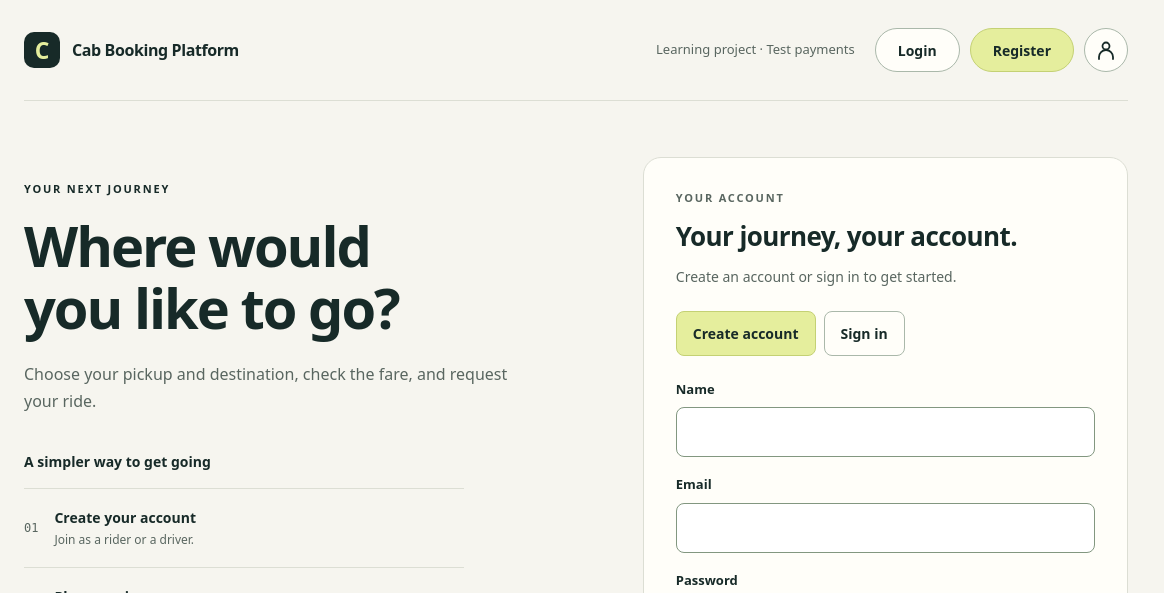
Scenario: successful rider sign-in opens the correct workspace and focuses its visible heading
The image size is (1164, 593).
Click the button "Login" at (917, 50), box top-left (875, 28), bottom-right (960, 72)
(page scrolled)
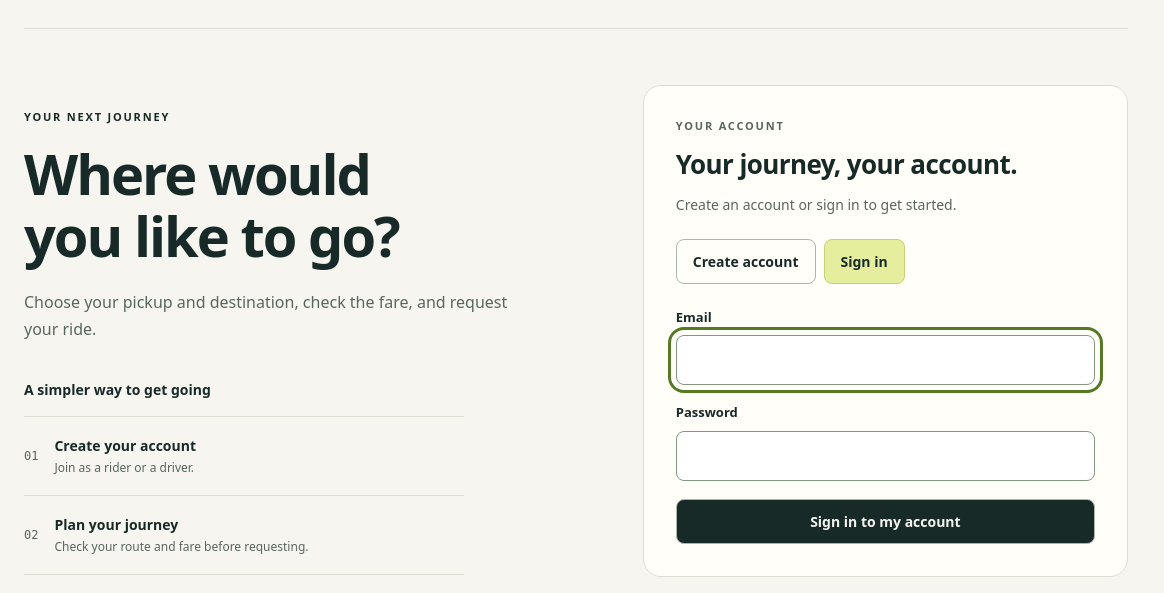
Type "rider@example.com" into the field labelled "Email" at (885, 360), box top-left (676, 335), bottom-right (1095, 385)
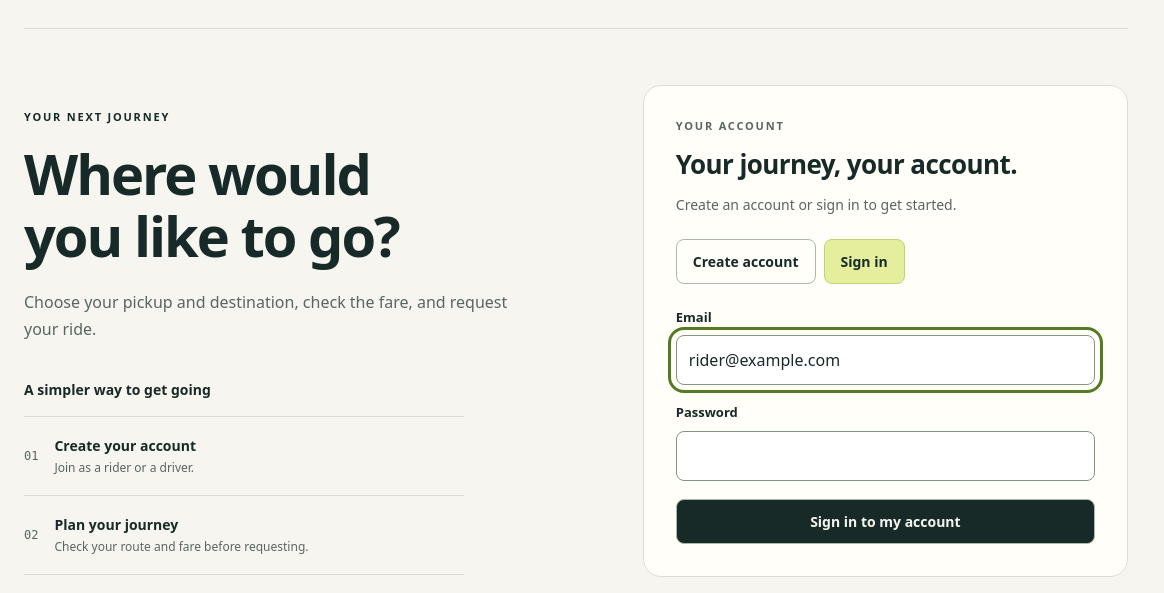
Type "fixture-password" into the password field labelled "Password" at (885, 456), box top-left (676, 430), bottom-right (1095, 480)
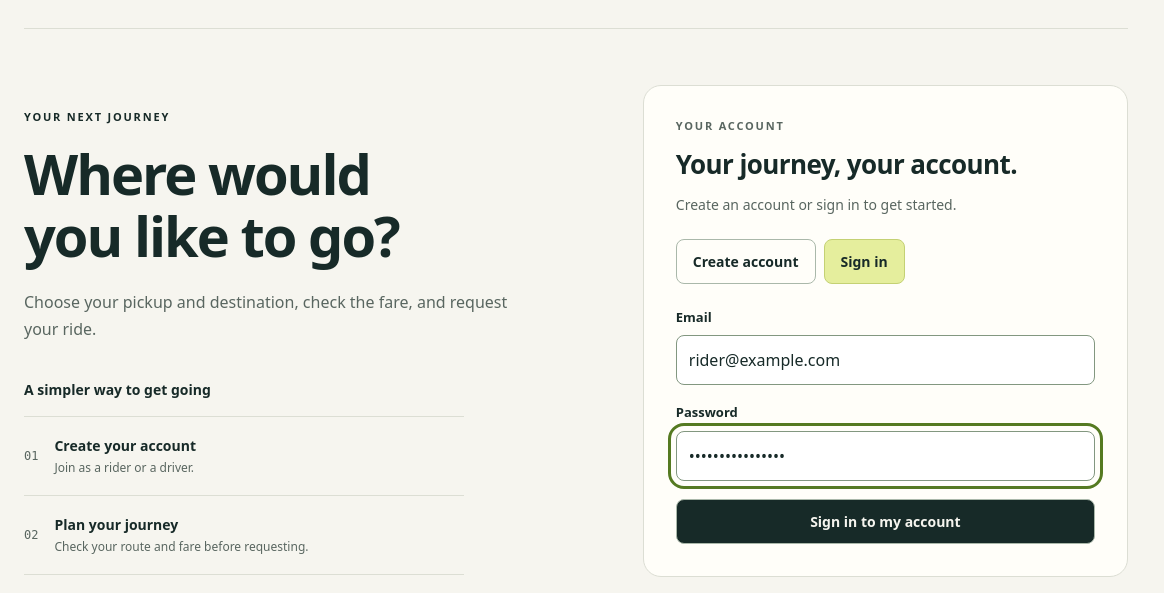
Press Enter
(page scrolled)
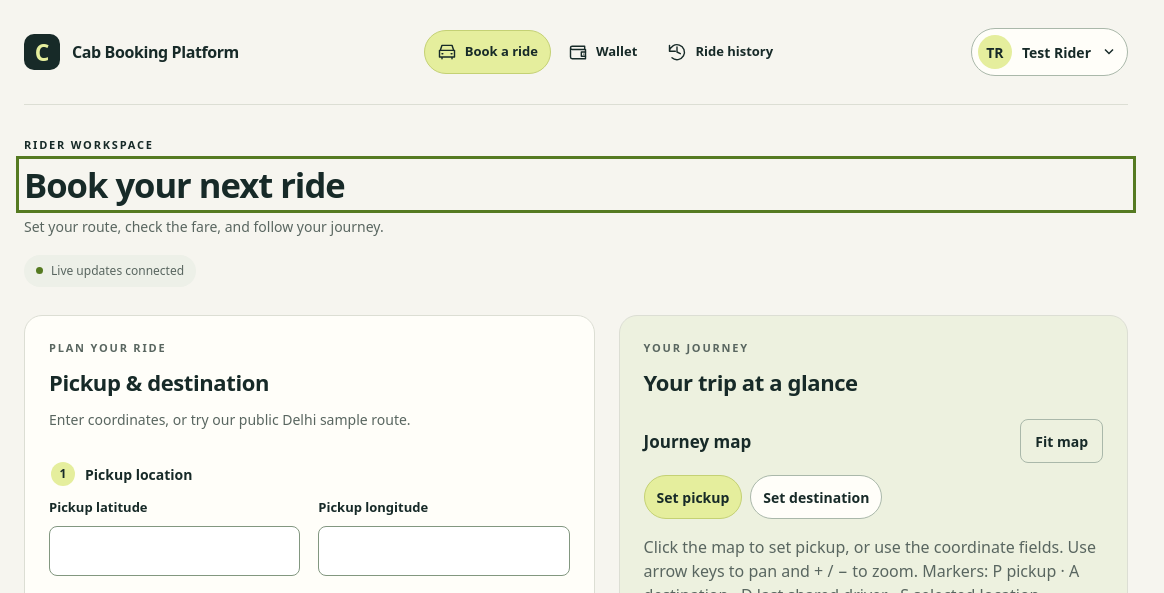
Expected: the navigation bar named "Workspace sections" is shown, top-left (424, 30), bottom-right (773, 74)
